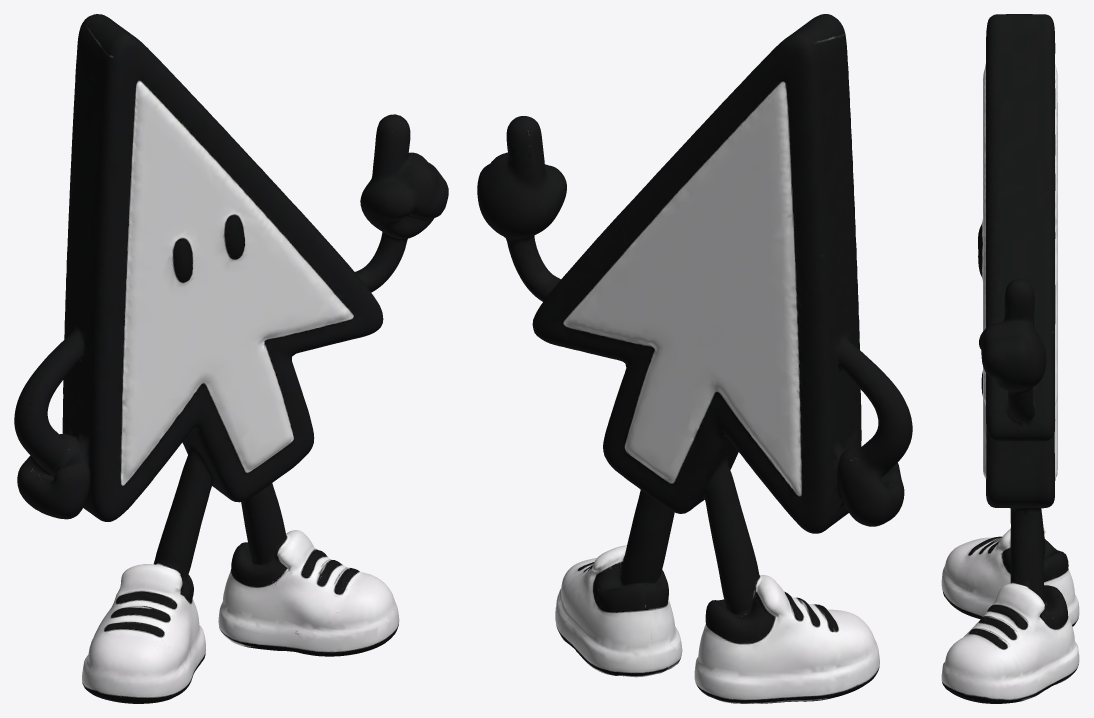
Rendered from mascot.glb.
The picture shows the model from 3 angles, left to right: view 1: azimuth 30°, elevation 25°; view 2: azimuth 150°, elevation 25°; view 3: azimuth 270°, elevation 25°; orthographic projection. The views are drawn at different scales.
Parts seen in each view (by area): view 1: Mesh0; view 2: Mesh0; view 3: Mesh0.
Boxes of the visible parts, x1=… form: Mesh0: x1=14, y1=14, x2=448, y2=703; Mesh0: x1=477, y1=14, x2=912, y2=703; Mesh0: x1=941, y1=14, x2=1079, y2=703.
Size of the model in its own units: 0.2047 by 0.3048 by 0.0656.
1 material, 1 textured.
